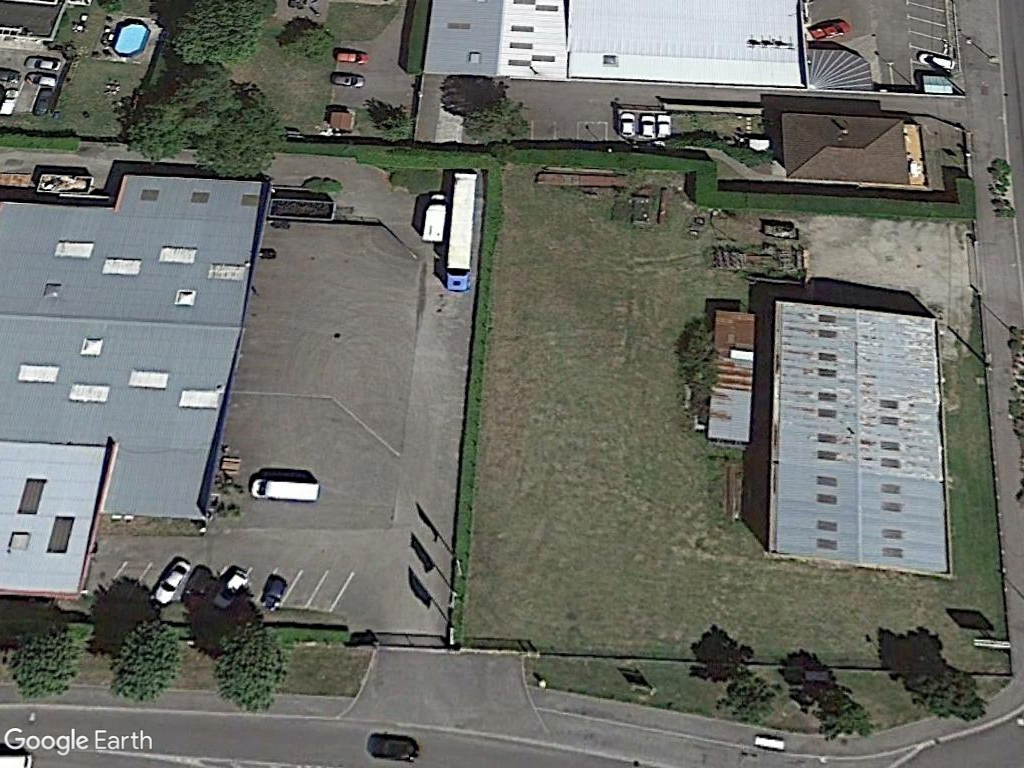car: (367, 731, 423, 763), (639, 109, 659, 145), (655, 104, 674, 139), (619, 109, 638, 143)
longvehicle: (448, 165, 476, 296)
van: (244, 470, 323, 503), (422, 185, 445, 245)
